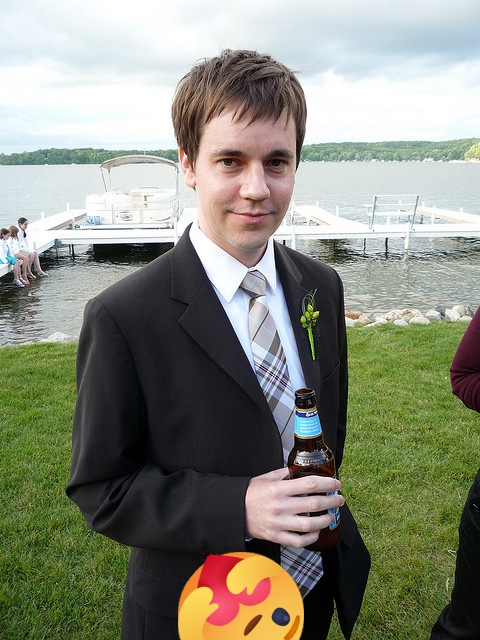care: (178, 552, 304, 640)
